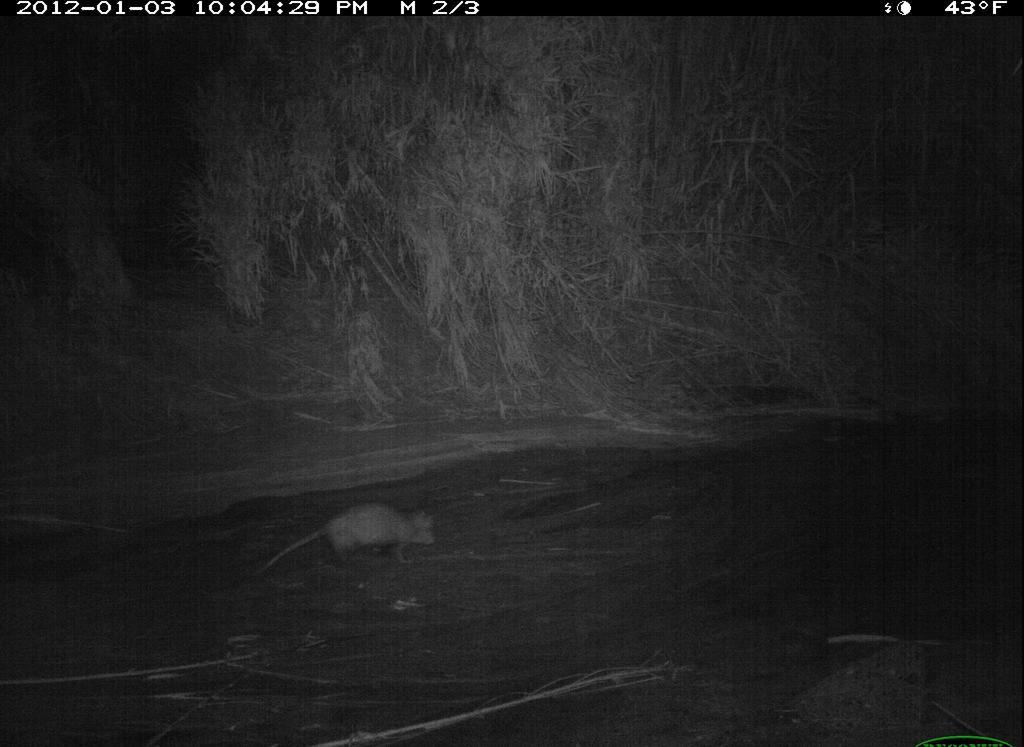opossum: (250, 502, 456, 583)
